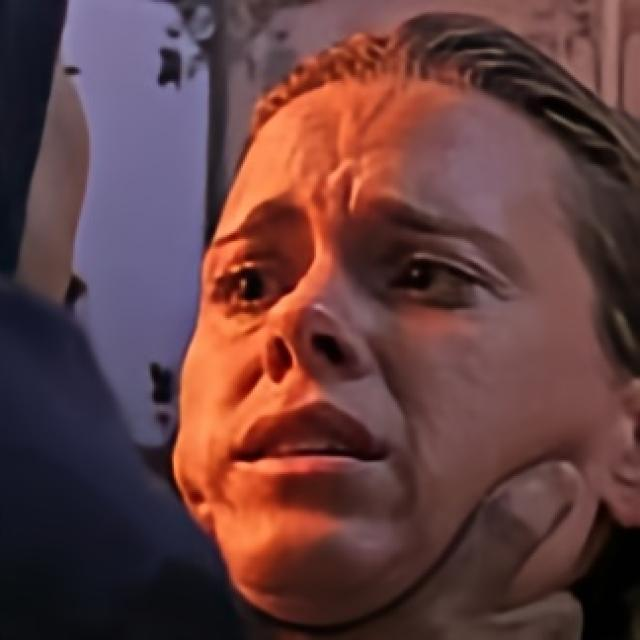sad: (175, 60, 634, 624)
